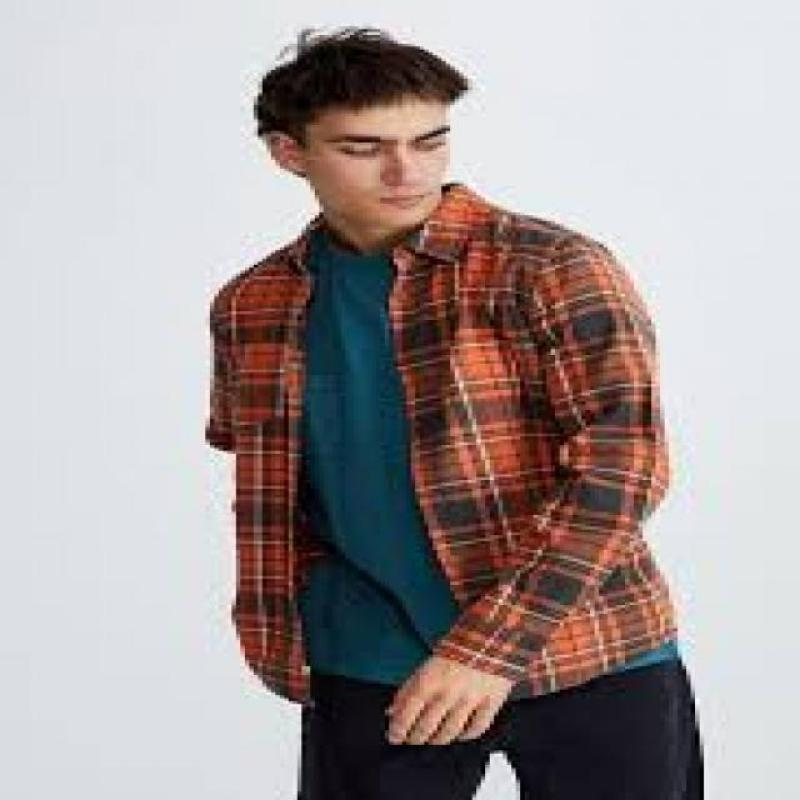long sleeve shirt: (207, 177, 683, 708)
short sleeve shirt: (305, 228, 679, 678)
trousers: (296, 657, 709, 800)
